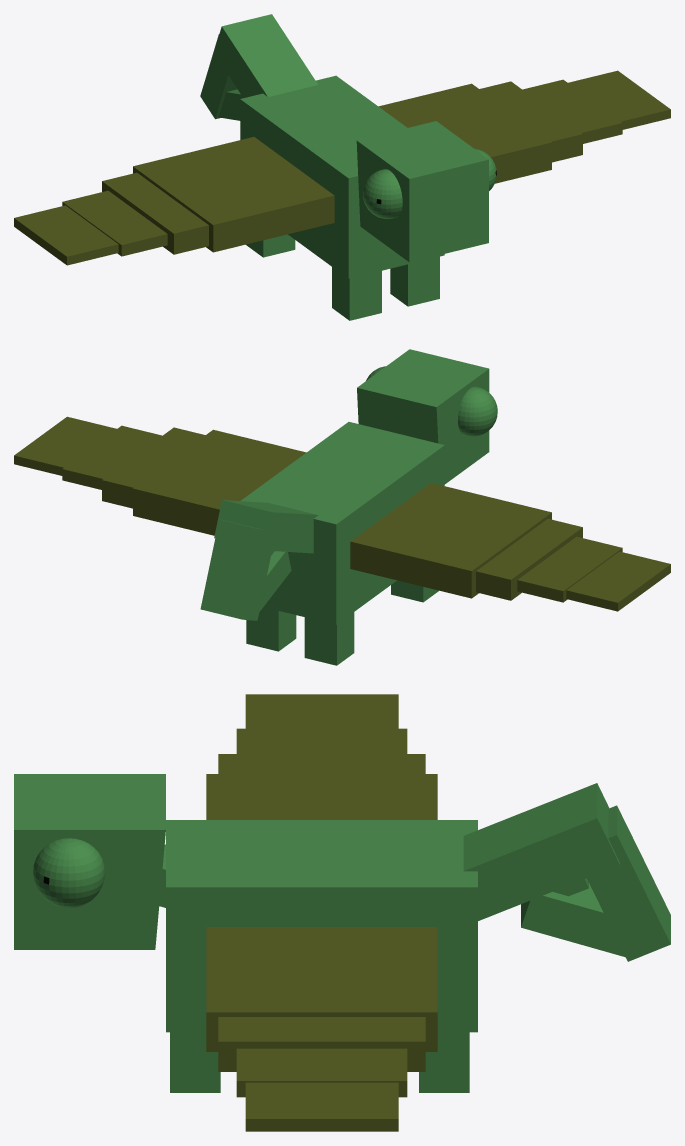
The model's file is Parelly.fbx.
3 views of the same model, one above another, from view 1: azimuth 30°, elevation 25°; view 2: azimuth 150°, elevation 25°; view 3: azimuth 270°, elevation 25° (orthographic). The views are drawn at different scales.
Parts seen in each view (by area): view 1: Cube.003, Cube, Cube.002, Cube.014, Cube.001; view 2: Cube, Cube.003, Cube.002, Cube.014, Cube.001; view 3: Cube, Cube.002, Cube.014, Cube.003, Cube.001.
Boxes of the visible parts, x1=… form: Cube.003: x1=14, y1=137, x2=334, y2=265; Cube: x1=240, y1=75, x2=444, y2=320; Cube.002: x1=378, y1=70, x2=670, y2=183; Cube.014: x1=356, y1=121, x2=496, y2=262; Cube.001: x1=200, y1=14, x2=317, y2=120; Cube: x1=241, y1=422, x2=444, y2=665; Cube.003: x1=350, y1=483, x2=670, y2=611; Cube.002: x1=14, y1=416, x2=306, y2=535; Cube.014: x1=357, y1=349, x2=497, y2=484; Cube.001: x1=200, y1=500, x2=318, y2=620; Cube: x1=166, y1=820, x2=477, y2=1092; Cube.002: x1=206, y1=927, x2=437, y2=1131; Cube.014: x1=14, y1=774, x2=165, y2=949; Cube.003: x1=206, y1=694, x2=437, y2=819; Cube.001: x1=463, y1=783, x2=670, y2=961.
Bounding box in the file's own units: 1258 × 360 × 822.
